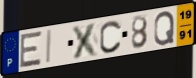8: (130, 15, 148, 50)
C: (98, 19, 123, 54)
E: (18, 30, 43, 70)
I: (45, 28, 53, 65)
Q: (153, 10, 176, 47)
X: (71, 21, 101, 60)
